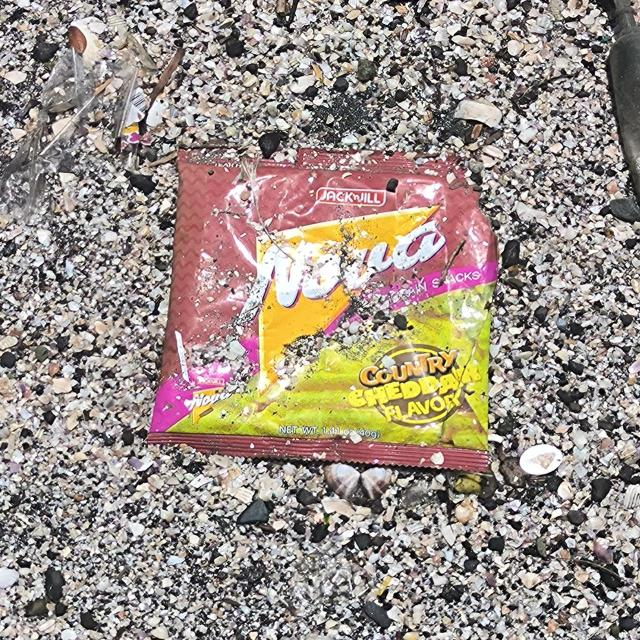plastic_waste: (141, 145, 502, 475)
